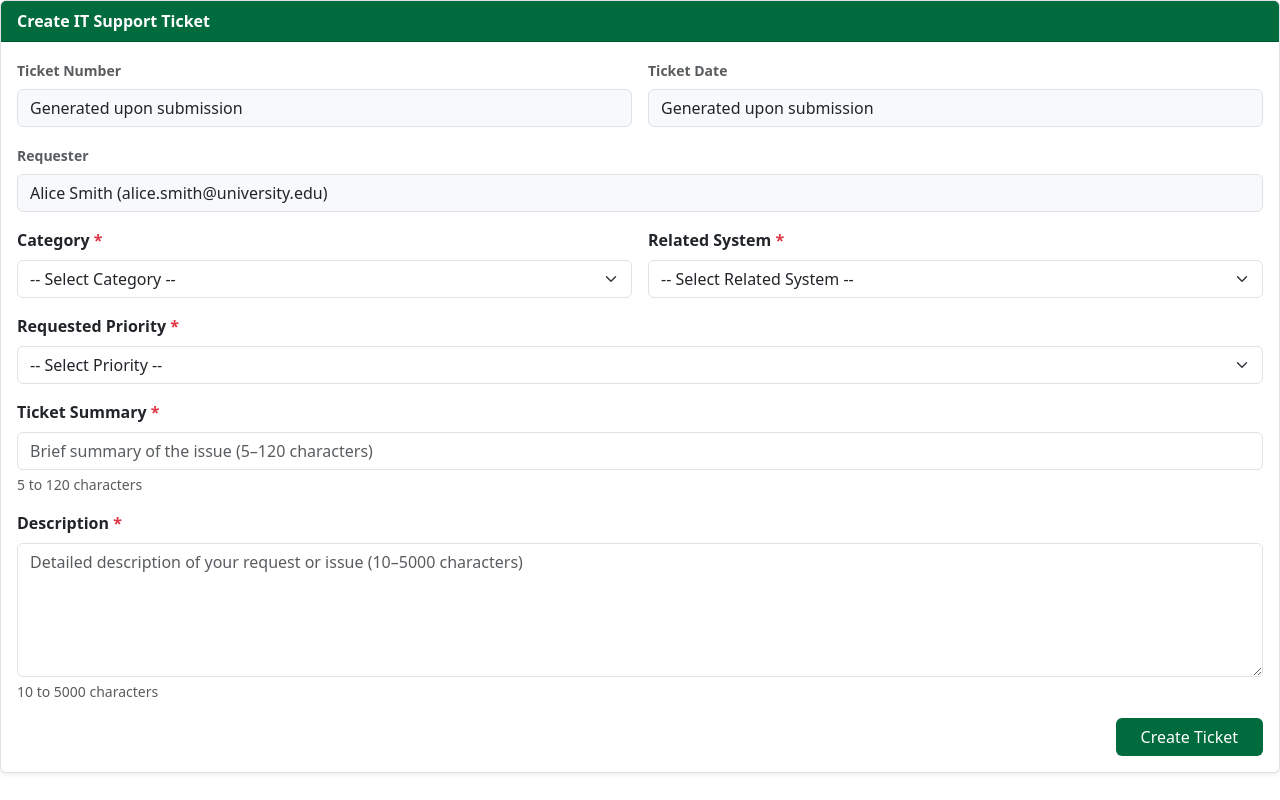
Test: CreateTicketForm Component (Issue #13) › AC-09: preserves entered form values on recoverable API failure and maps field errors
The image size is (1280, 800).
Select "Account and Access" in the dropdown labelled "Category *" at [324, 279], box [17, 260, 632, 298]
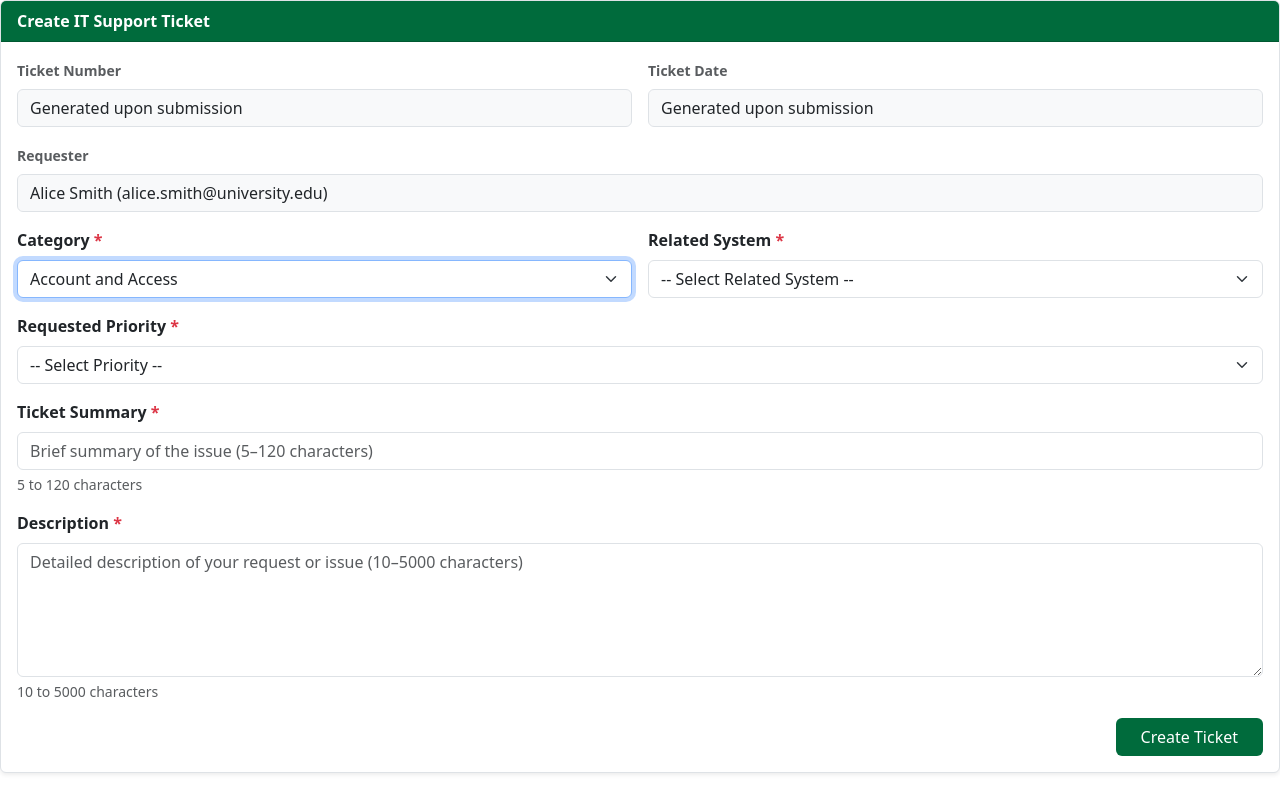
Select "Student Portal" in the dropdown labelled "Related System *" at [956, 279], box [648, 260, 1263, 298]
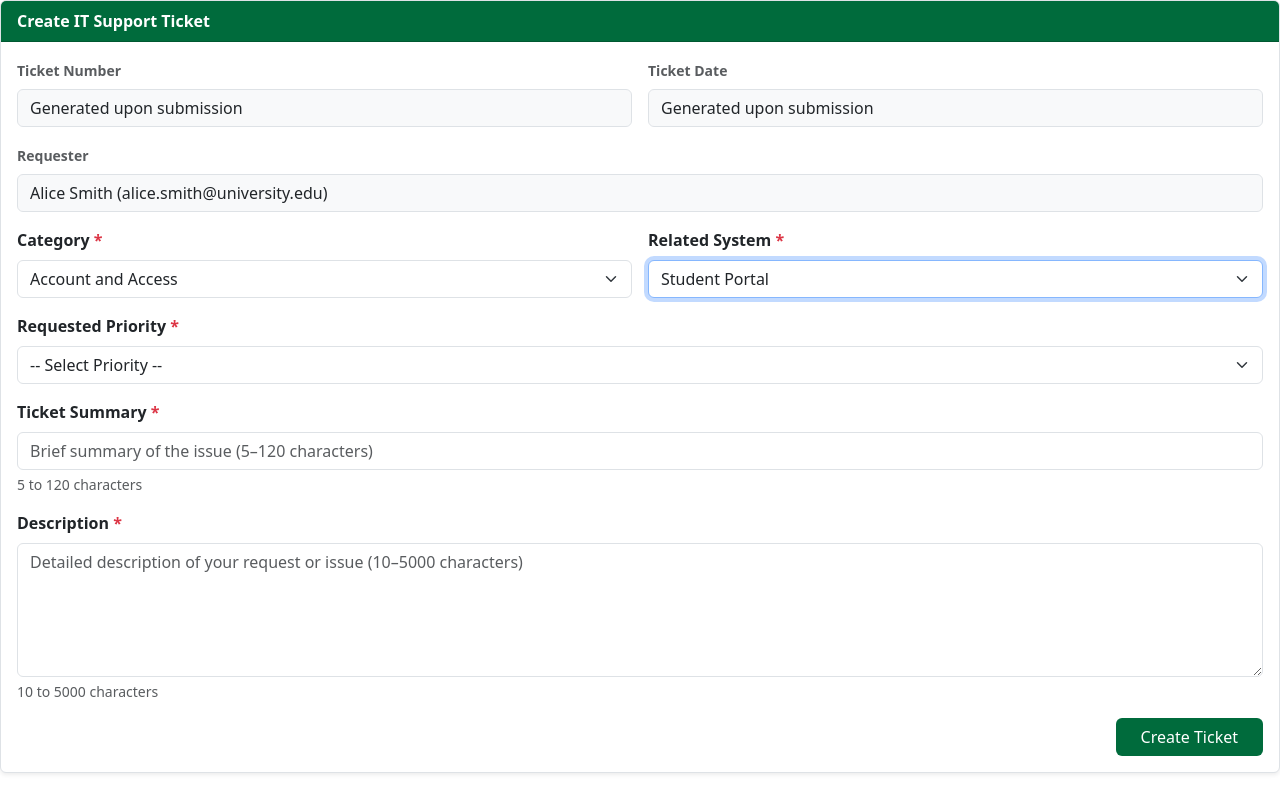
Select "High" in the dropdown labelled "Requested Priority *" at [640, 365], box [17, 346, 1263, 384]
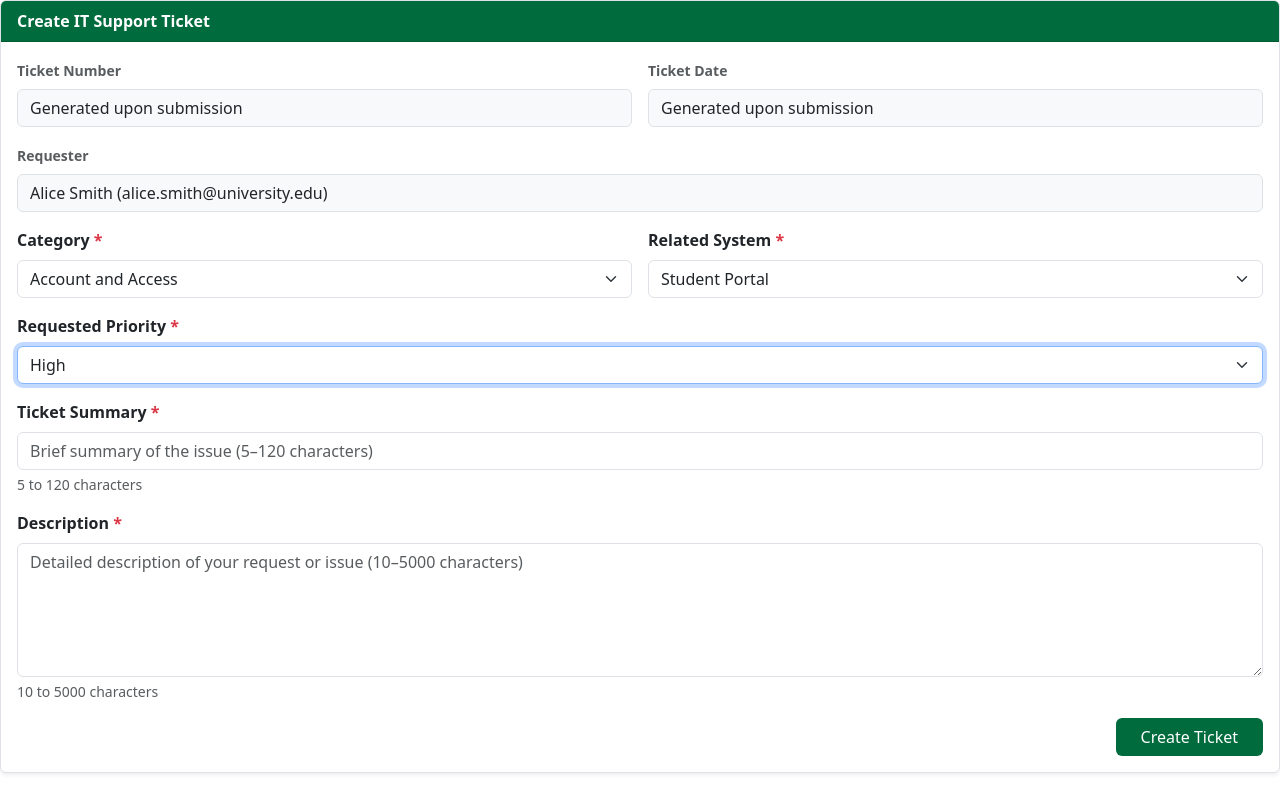
Type "Network Access Issues" into the field labelled "Ticket Summary *".
click(640, 451); type("Network Access Issues")  # box [17, 432, 1263, 470]
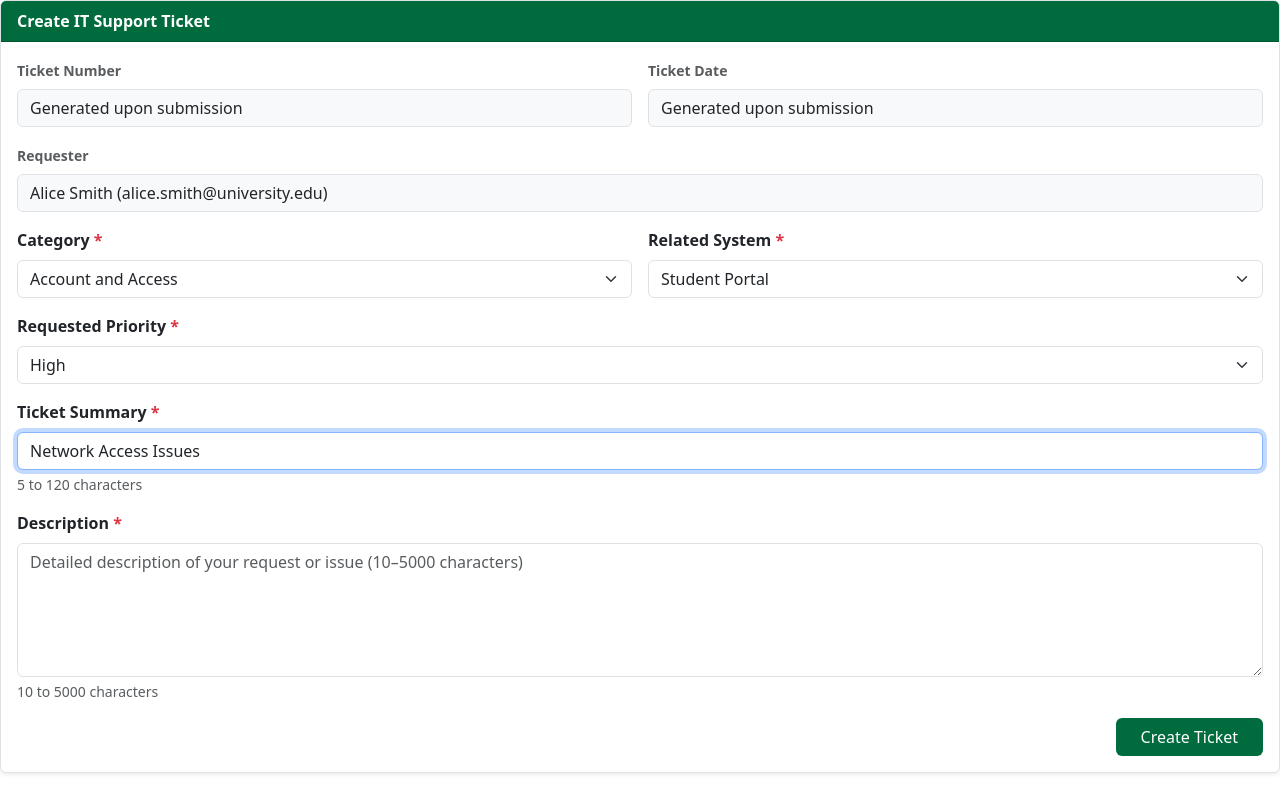
Type "Unable to connect to university Wi-Fi network from dormitory." into the text box labelled "Description *".
click(640, 610); type("Unable to connect to university Wi-Fi network from dormitory.")  # box [17, 543, 1263, 677]
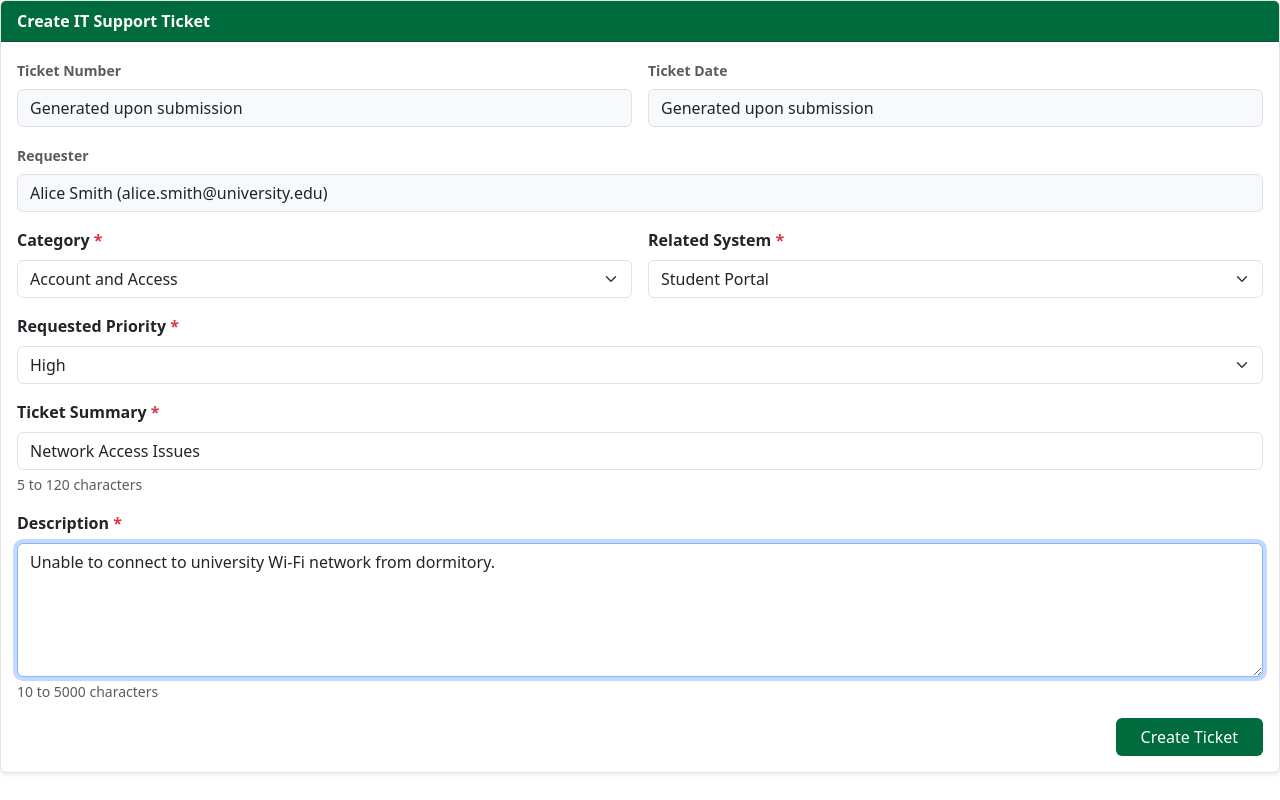
Click the button "Create Ticket".
click(1189, 737)  # box [1116, 718, 1263, 756]
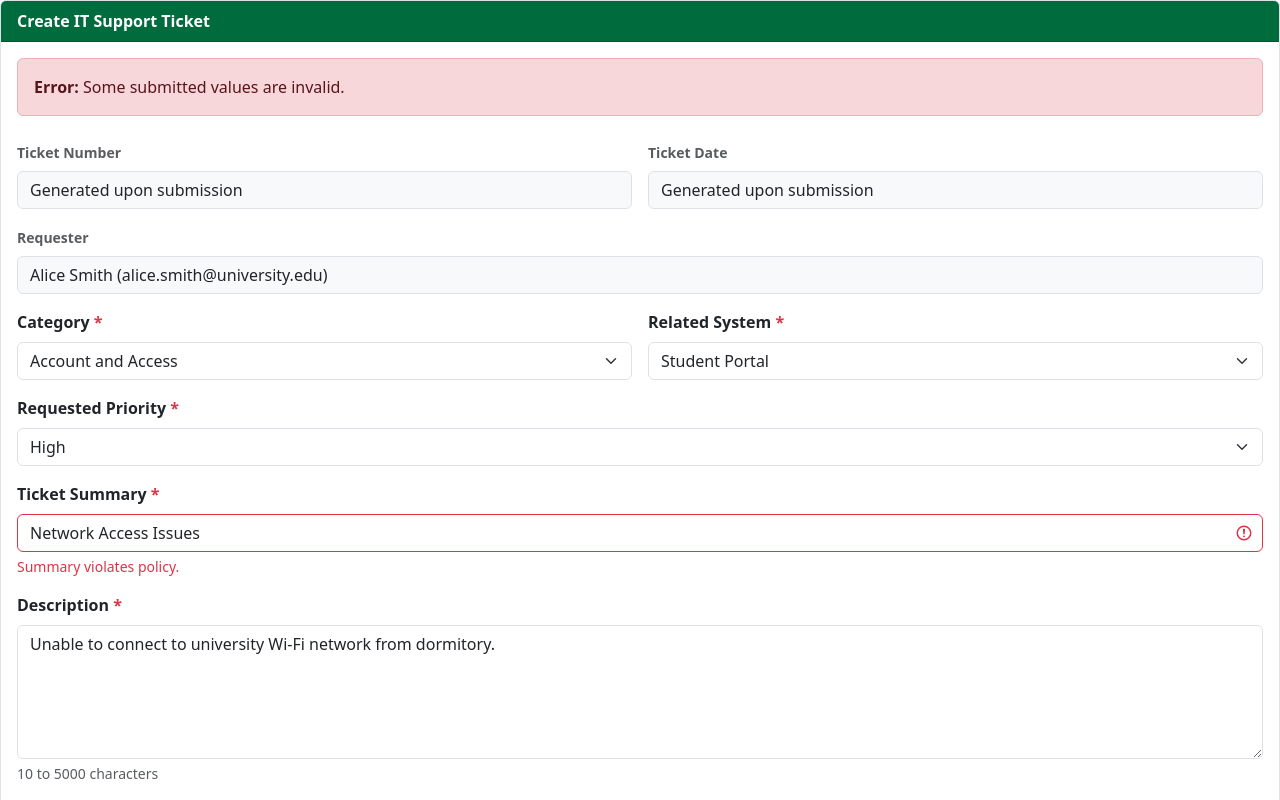
Expected: the text "Error: Some submitted values are invalid." is shown, [17, 58, 1263, 116]
Expected: the text "Summary violates policy." is shown, [17, 557, 179, 576]
